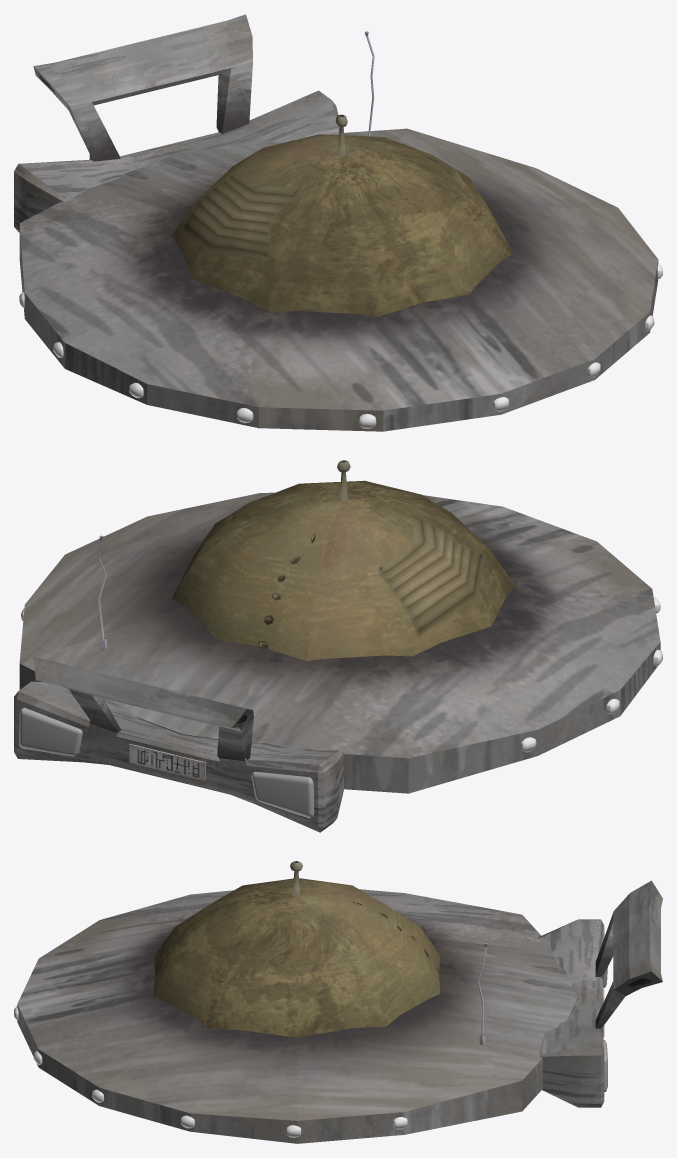
File: UFO_Object_Textured.fbx
The picture shows the model from 3 angles, top to bottom: view 1: azimuth 30°, elevation 25°; view 2: azimuth 150°, elevation 25°; view 3: azimuth 270°, elevation 25°; orthographic projection. The views are drawn at different scales.
Parts seen in each view (by area): view 1: polySurface4, polySurface3, polySurface22; view 2: polySurface4, polySurface3, polySurface22, polySurface9, polySurface10; view 3: polySurface4, polySurface3, polySurface22.
Part boxes in pixels (bbox=[...]): polySurface4: bbox=[19, 128, 658, 431]; polySurface3: bbox=[171, 114, 512, 316]; polySurface22: bbox=[14, 14, 339, 232]; polySurface4: bbox=[19, 492, 660, 793]; polySurface3: bbox=[171, 460, 514, 660]; polySurface22: bbox=[14, 657, 344, 832]; polySurface9: bbox=[19, 707, 82, 756]; polySurface10: bbox=[251, 771, 314, 818]; polySurface4: bbox=[17, 889, 577, 1143]; polySurface3: bbox=[153, 861, 440, 1037]; polySurface22: bbox=[538, 880, 662, 1107].
Size of the model in its own units: 33.72 by 15.53 by 38.59.
Materials: 7 (5 with a texture image).
